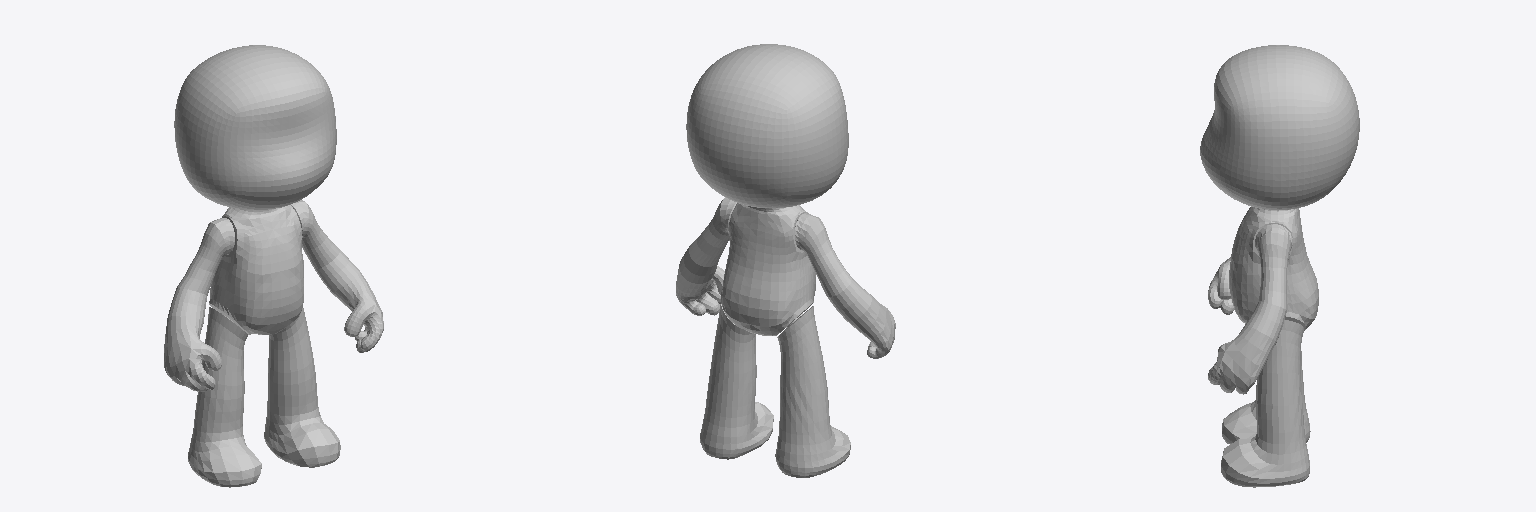
File: Toy Art Base Doll.obj
The picture shows the model from 3 angles: view 1: azimuth 30°, elevation 25°; view 2: azimuth 150°, elevation 25°; view 3: azimuth 270°, elevation 25°; orthographic projection.
Visible parts, largest first — view 1: Body, Head; view 2: Body, Head; view 3: Body, Head.
Part boxes in pixels (x1,y1,x2,y2): Body: (164,200,383,487); Head: (174,45,336,209); Body: (676,197,895,477); Head: (686,44,848,207); Body: (1208,207,1318,487); Head: (1200,45,1359,210).
Bounding box in the file's own units: 3.14 × 5.71 × 2.05.